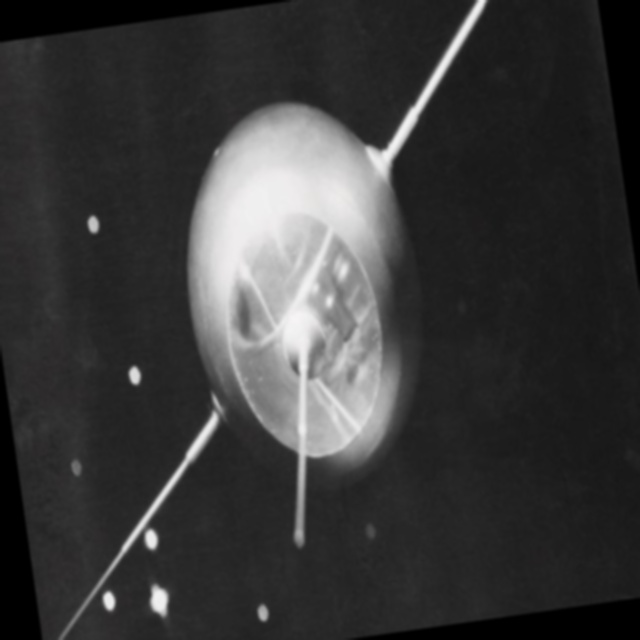satellite: (0, 0, 607, 640)
